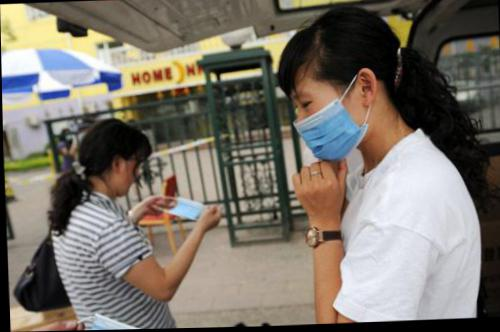WRONG: (293, 83, 374, 164)
